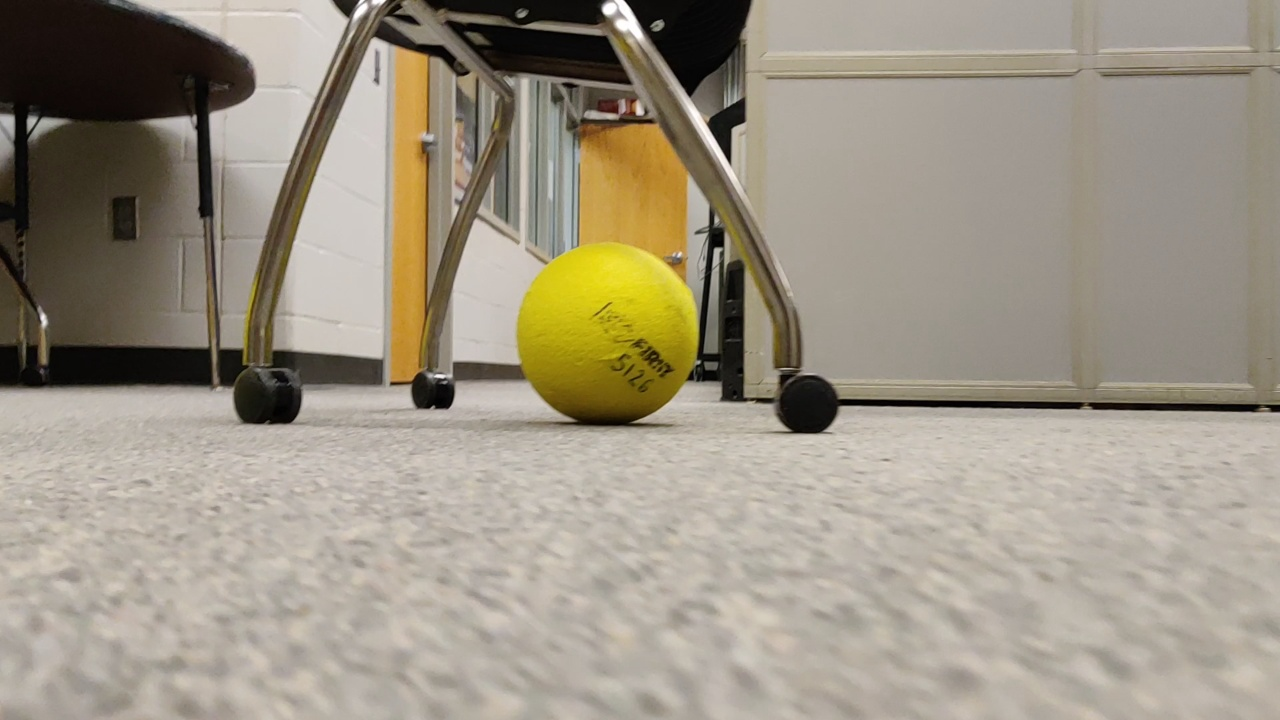Ball: (511, 242, 700, 421)
